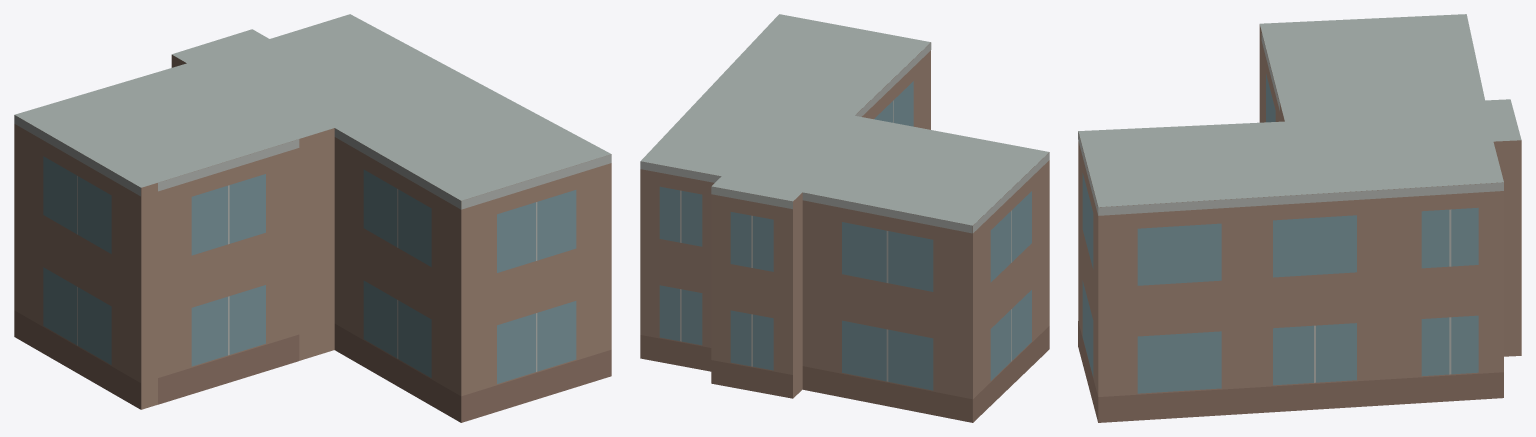
Rendered from survey-upis-32776837.glb.
3 renders of one model, left to right at view 1: azimuth 30°, elevation 25°; view 2: azimuth 150°, elevation 25°; view 3: azimuth 270°, elevation 25°, orthographic. The views are drawn at different scales.
Visible parts, largest first — view 1: survey-upis-32776837.tmp; view 2: survey-upis-32776837.tmp; view 3: survey-upis-32776837.tmp.
Part boxes in pixels (box(x1,y1,x2,y2)): survey-upis-32776837.tmp: box(14, 14, 611, 422); survey-upis-32776837.tmp: box(640, 14, 1049, 422); survey-upis-32776837.tmp: box(1078, 14, 1521, 422).
Bounding box in the file's own units: 11.73 × 6.1 × 11.38.
